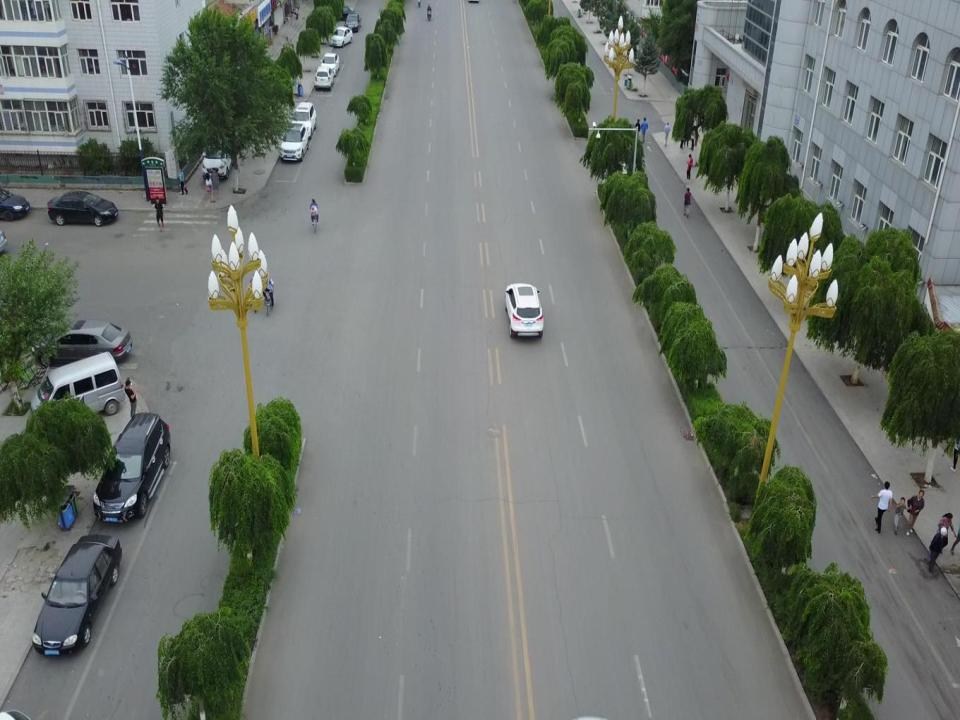car: (31, 533, 122, 658), (92, 412, 172, 524), (33, 317, 135, 365), (46, 191, 122, 228), (505, 283, 545, 341), (0, 184, 32, 221), (202, 142, 233, 180), (280, 125, 312, 161), (294, 100, 320, 136), (323, 46, 341, 78), (329, 25, 354, 48), (315, 66, 332, 90)
truck: (345, 12, 359, 26)
van: (31, 352, 126, 415)
